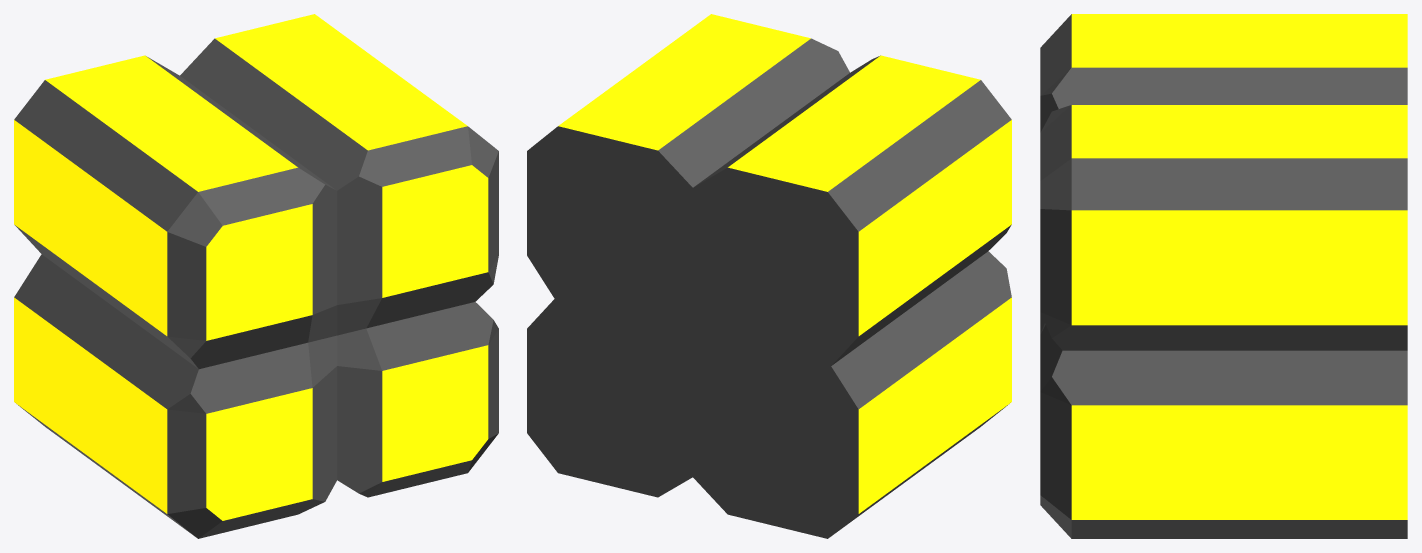
The model's file is cargo.glb.
The picture shows the model from 3 angles, left to right: view 1: azimuth 30°, elevation 25°; view 2: azimuth 150°, elevation 25°; view 3: azimuth 270°, elevation 25°; orthographic projection. The views are drawn at different scales.
Visible parts, largest first — view 1: Plane.013; view 2: Plane.013; view 3: Plane.013.
Part boxes in pixels (x1,y1,x2,y2): Plane.013: [14, 14, 498, 538]; Plane.013: [527, 14, 1011, 538]; Plane.013: [1040, 14, 1407, 538].
Size of the model in its own units: 0.8 by 0.8 by 0.7.
